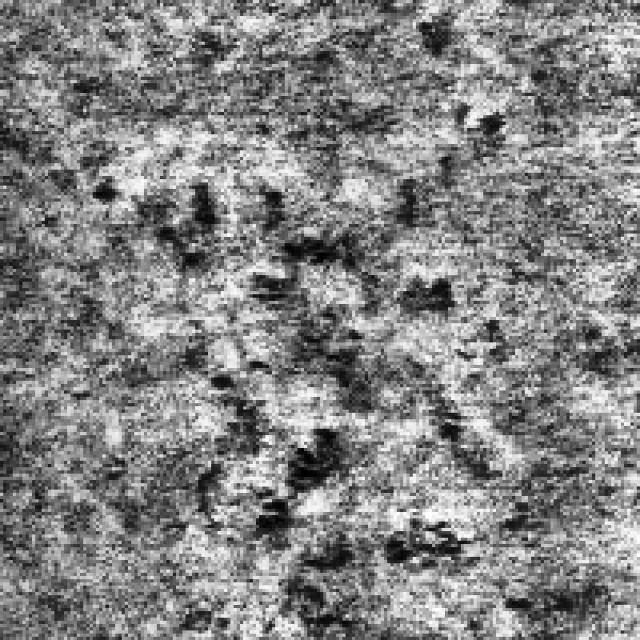Crazing: (173, 348, 464, 630)
